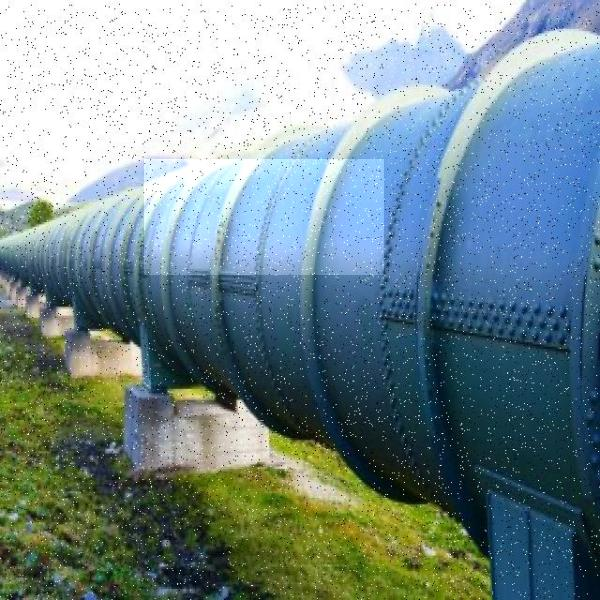water: (144, 159, 384, 275)
